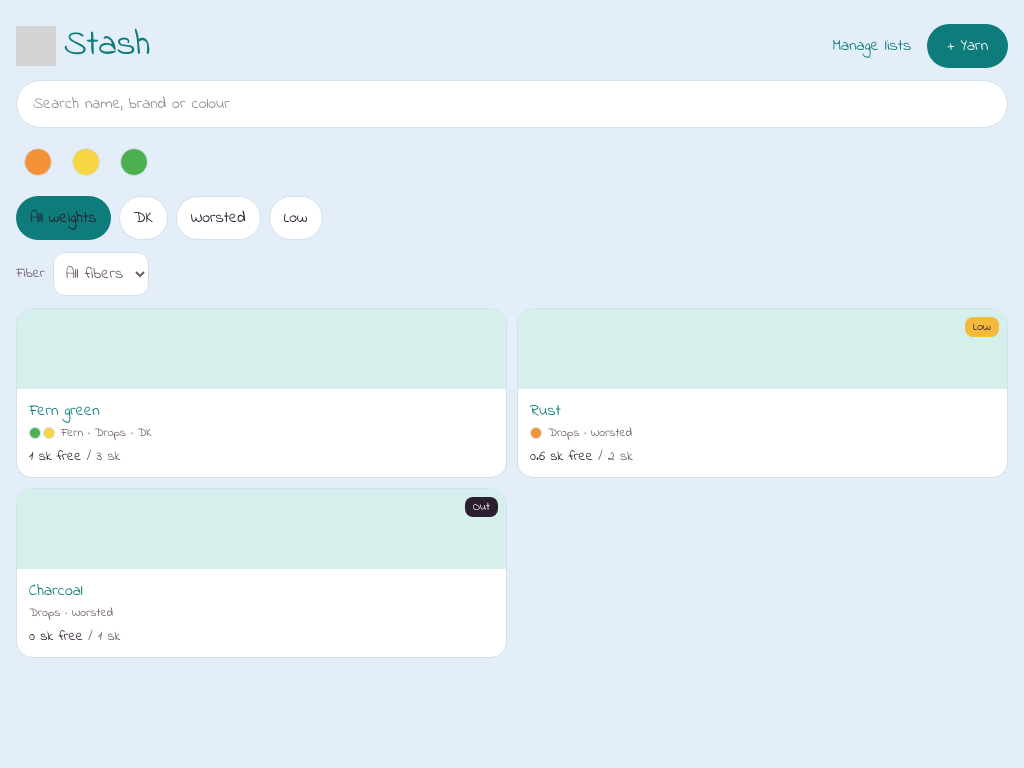
Test case: search box and colour dots narrow the list
Click the radio button named "Green" at (134, 162), box [112, 140, 156, 184]
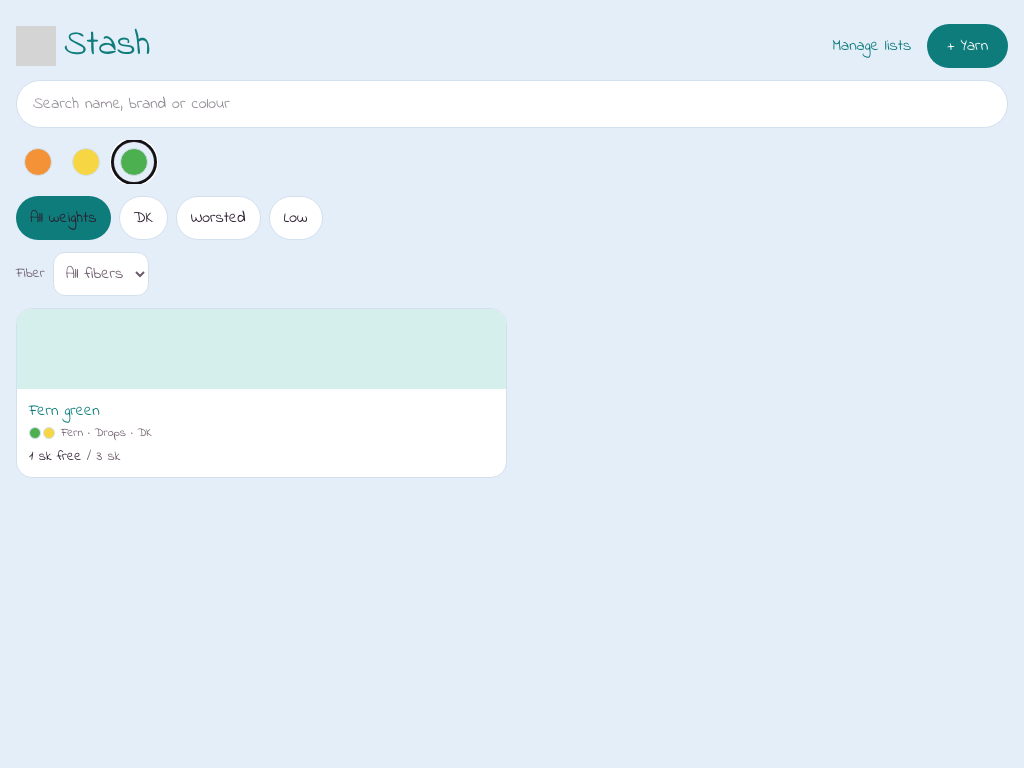
Expected: the link "Fern green Fern · Drops · DK 1 sk free / 3 sk" is shown, [16, 308, 507, 478]
Expected: the link "Rust" is gone
Click the radio button named "Green" at (134, 162), box [112, 140, 156, 184]
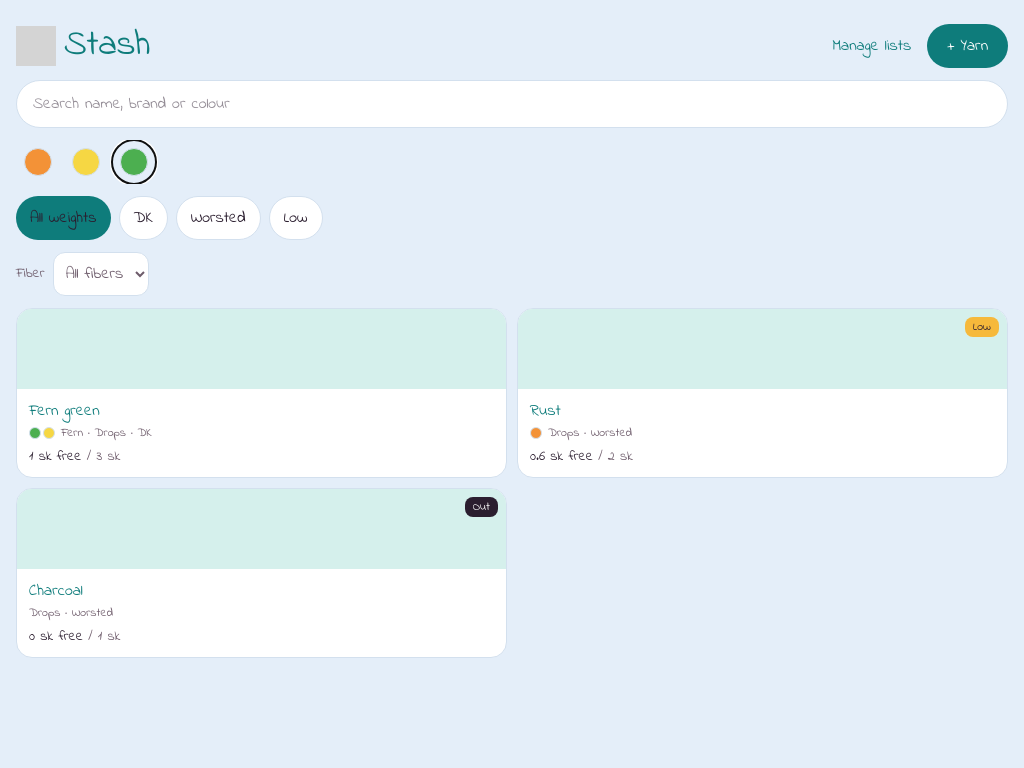
Type "char" into the search field named "Search yarns" at (512, 104), box [16, 80, 1008, 128]
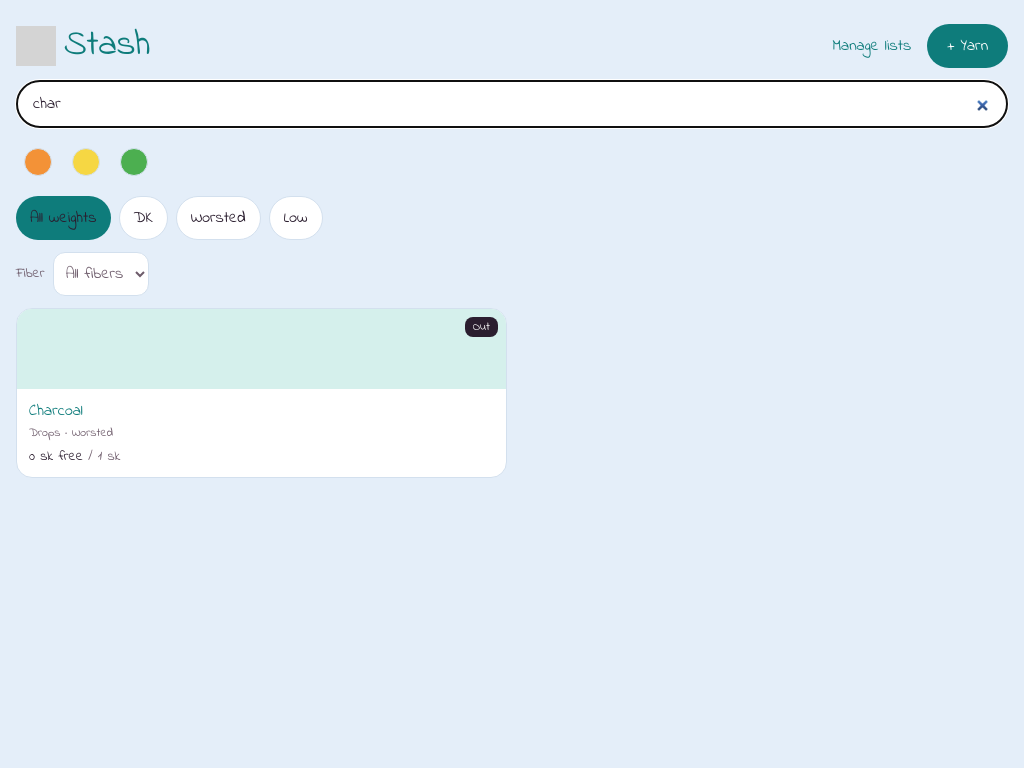
Expected: the number of links "Out Charcoal Drops · Worsted 0 sk free / 1 sk" is 1, [16, 308, 507, 478]
